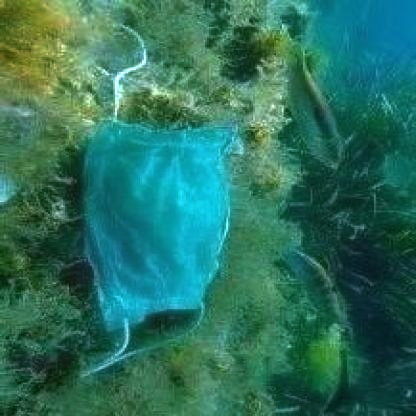Mask: (76, 15, 242, 398)
